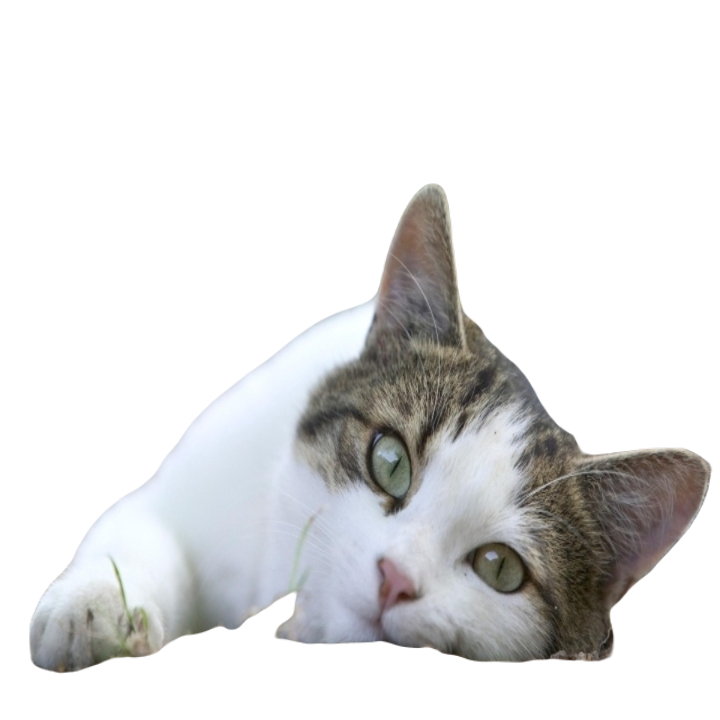Cat: (23, 181, 719, 676)
